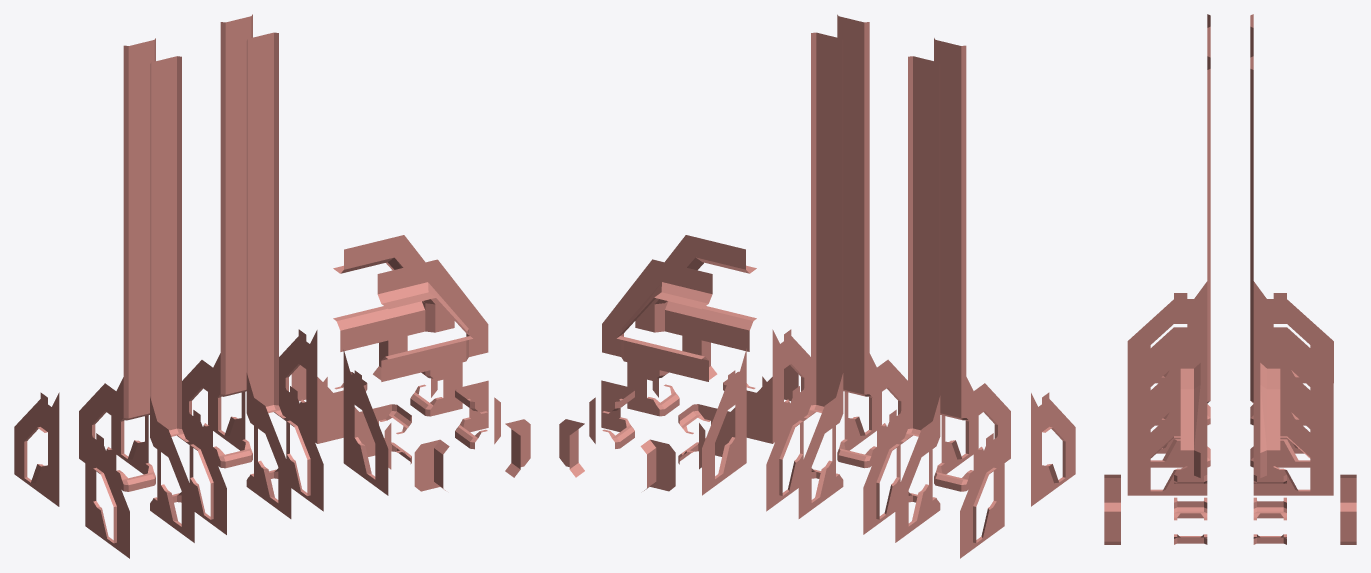
The model's file is cluster21.fbx.
The picture shows the model from 3 angles, left to right: view 1: azimuth 30°, elevation 25°; view 2: azimuth 150°, elevation 25°; view 3: azimuth 270°, elevation 25°; orthographic projection. The views are drawn at different scales.
Visible parts, largest first — view 1: cluster21; view 2: cluster21; view 3: cluster21.
Boxes of the visible parts, x1,y1,x2,y2 form: cluster21: (14, 14, 530, 558); cluster21: (559, 14, 1075, 558); cluster21: (1104, 14, 1356, 544).
Bounding box in the file's own units: 107038 × 112136 × 64562.
